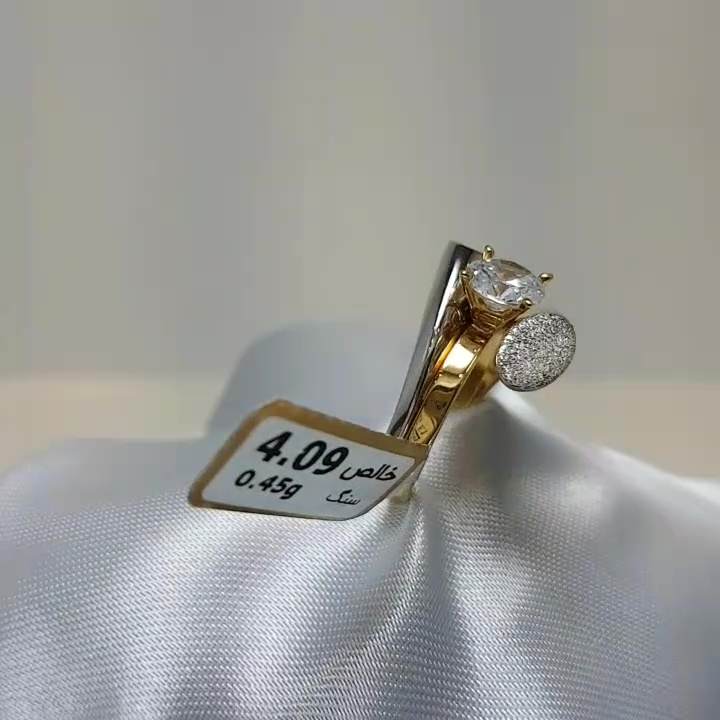Ring 7: (378, 229, 572, 516)
